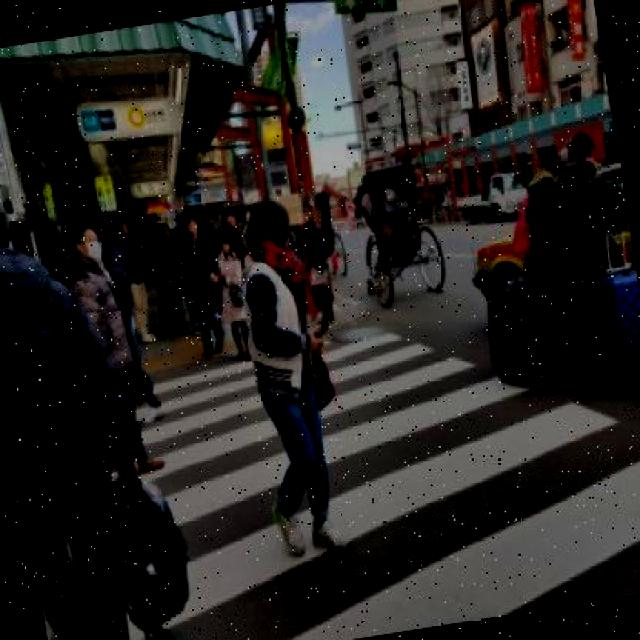Person: (228, 197, 356, 566), (59, 222, 153, 488), (176, 212, 228, 360), (209, 230, 257, 364), (113, 215, 159, 348)
